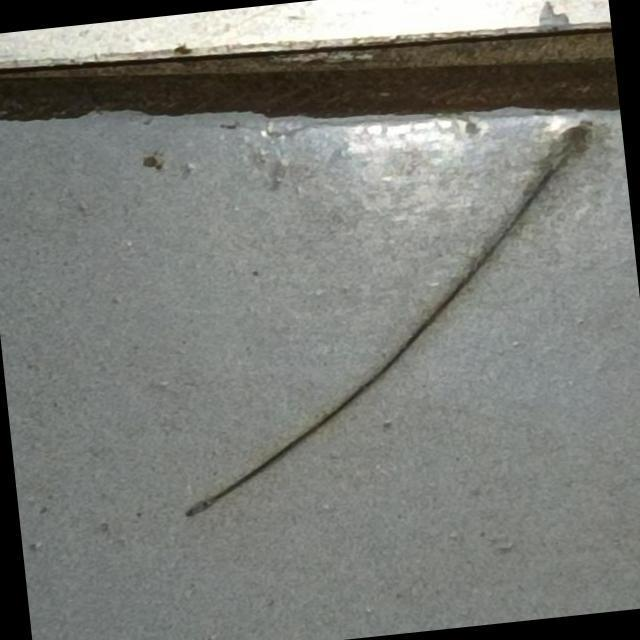defect: (173, 119, 599, 528)
